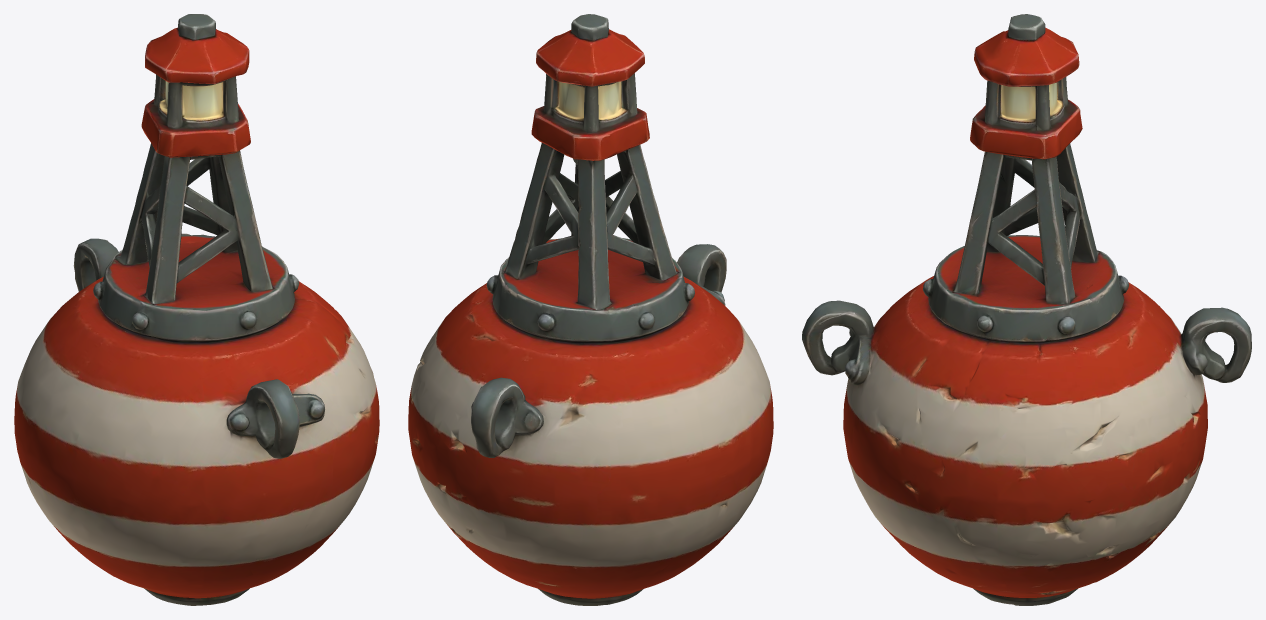
Rendered from boya.glb.
3 views of the same model, side by side, from view 1: azimuth 30°, elevation 25°; view 2: azimuth 150°, elevation 25°; view 3: azimuth 270°, elevation 25° (orthographic).
Parts seen in each view (by area): view 1: tripo_node_b2c40e54-689c-487f-b478-a36fd882f25f; view 2: tripo_node_b2c40e54-689c-487f-b478-a36fd882f25f; view 3: tripo_node_b2c40e54-689c-487f-b478-a36fd882f25f.
Part boxes in pixels (x1,y1,x2,y2): tripo_node_b2c40e54-689c-487f-b478-a36fd882f25f: (14, 14, 379, 605); tripo_node_b2c40e54-689c-487f-b478-a36fd882f25f: (408, 14, 773, 605); tripo_node_b2c40e54-689c-487f-b478-a36fd882f25f: (802, 14, 1251, 605).
Bounding box in the file's own units: 0.5882 × 1 × 0.7223.
1 material, 1 textured.
